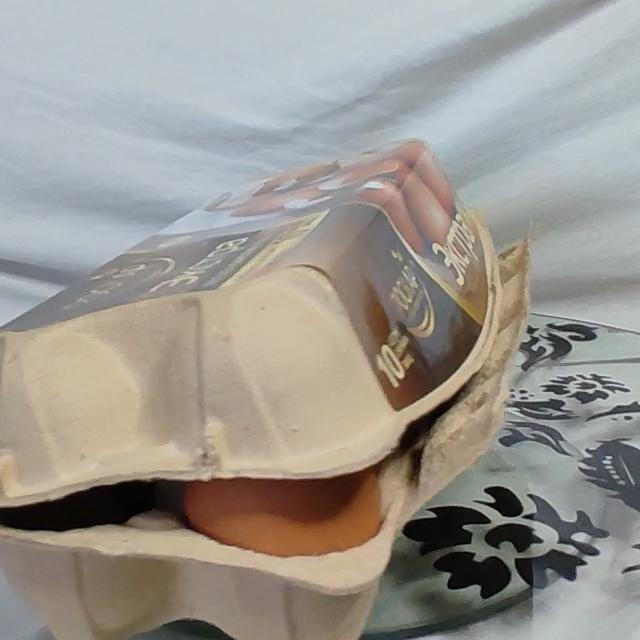egg: (0, 113, 532, 640)
